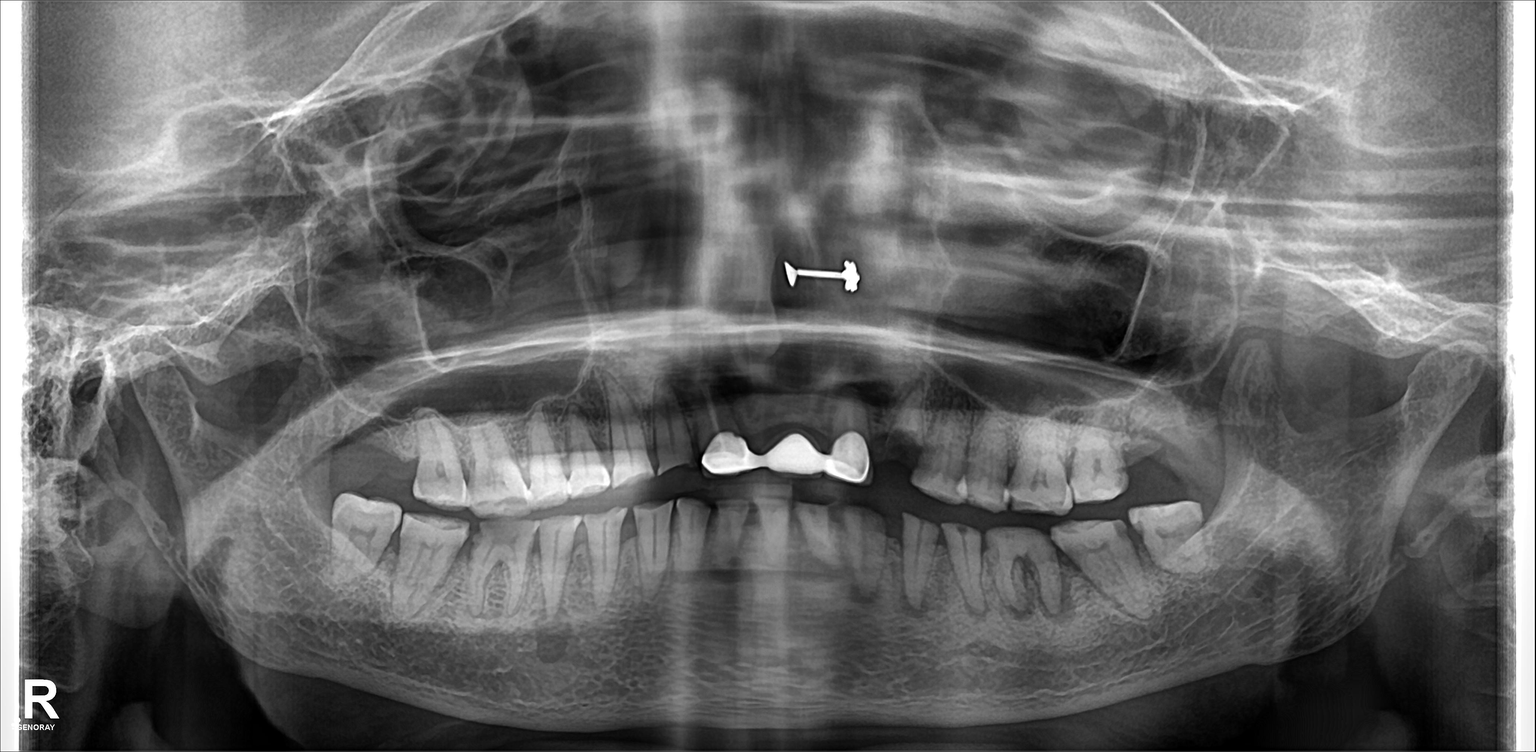Endodontically Treated Tooth: (769, 423, 815, 484), (827, 424, 869, 483), (702, 419, 745, 471)
Missing Tooth: (1145, 424, 1198, 496), (365, 424, 422, 486), (1123, 428, 1152, 505), (326, 419, 361, 481)
Periapical Lesion: (940, 560, 1073, 623)
Retained Root: (879, 410, 927, 493)
